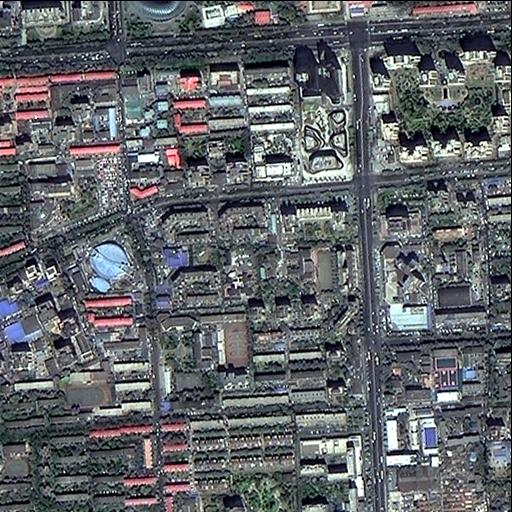school: (283, 243, 342, 297), (62, 352, 115, 409)
